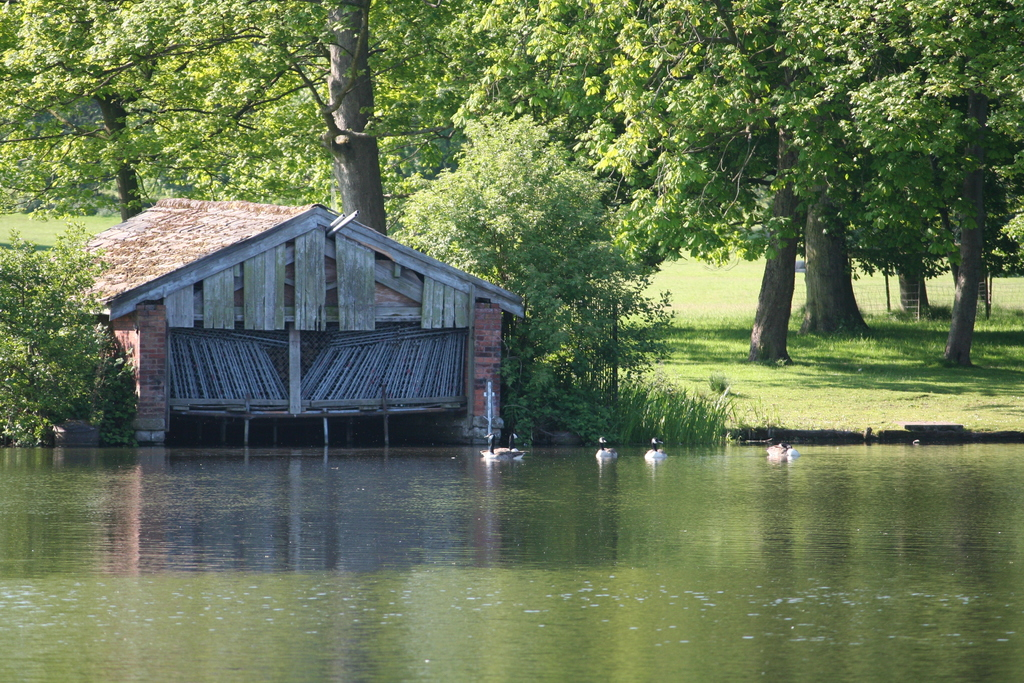Tree: (0, 0, 1024, 371)
